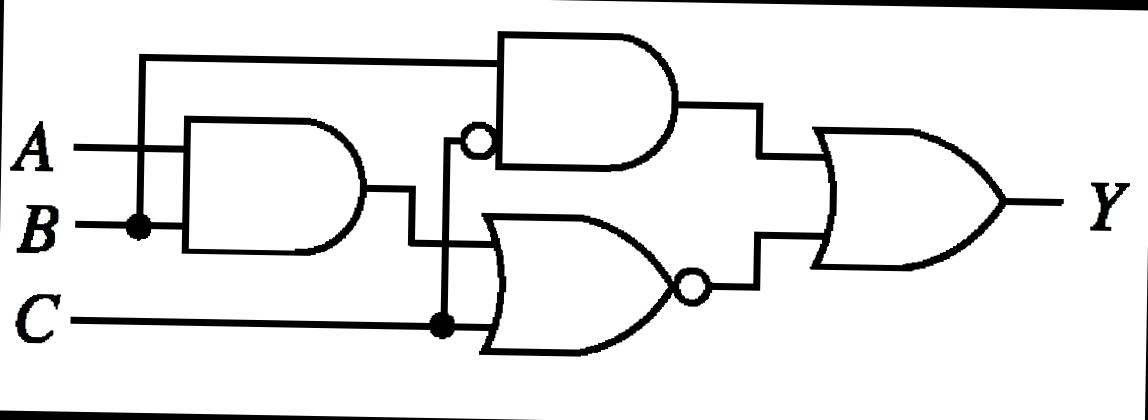and: (167, 107, 382, 271)
nor: (465, 205, 721, 371)
or: (802, 118, 1018, 282)
